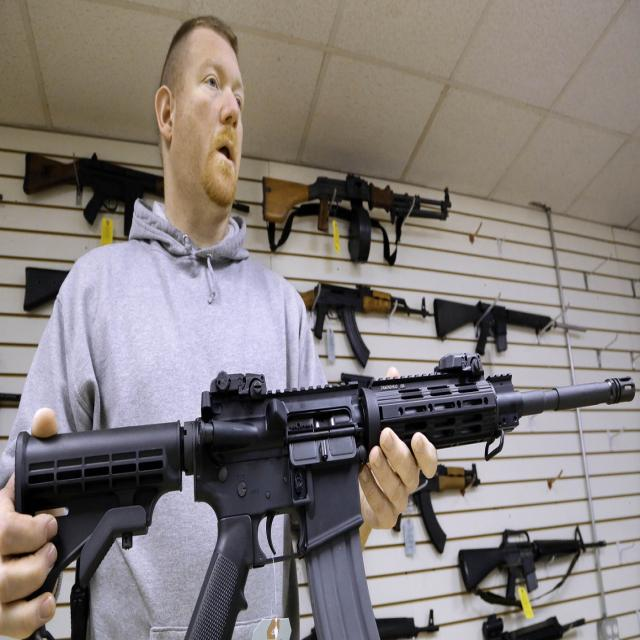Rifle: (13, 354, 637, 640), (299, 284, 422, 368), (457, 533, 607, 594), (433, 299, 552, 355)
